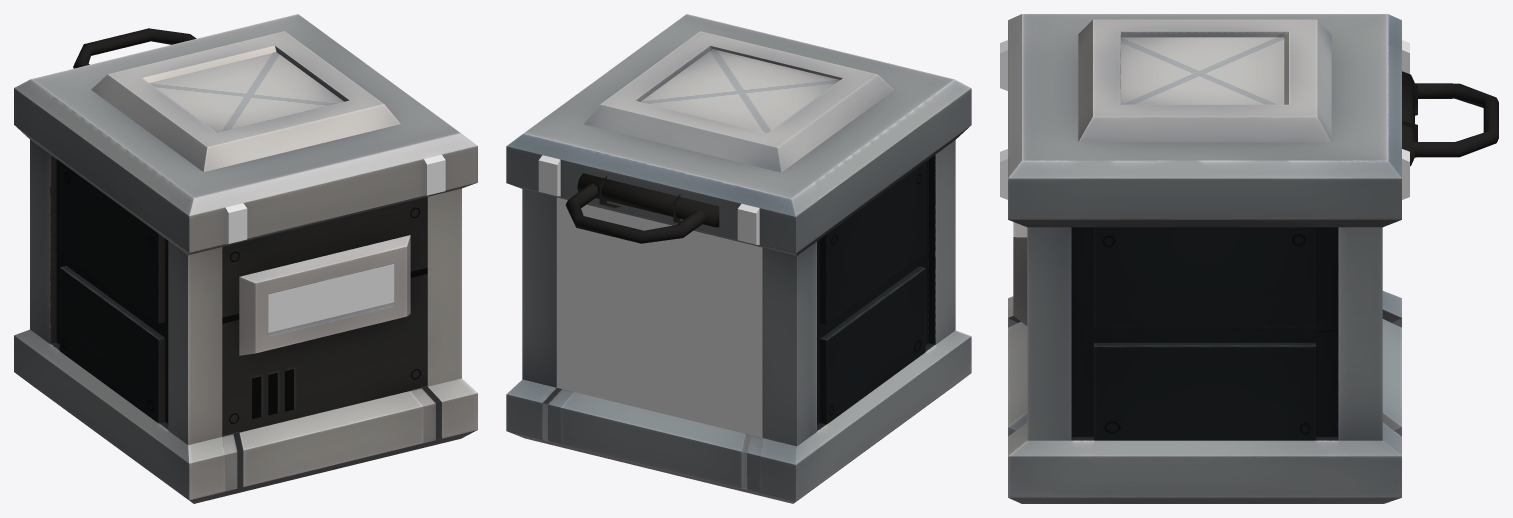
The model's file is SM_PushBox.fbx.
3 views of the same model, side by side, from view 1: azimuth 30°, elevation 25°; view 2: azimuth 150°, elevation 25°; view 3: azimuth 270°, elevation 25° (orthographic). The views are drawn at different scales.
Parts seen in each view (by area): view 1: box, handle; view 2: box, handle; view 3: box, handle.
Boxes of the visible parts, box(x1,y1,x2,y2) form: box: box(14, 14, 477, 503); handle: box(73, 28, 196, 68); box: box(506, 14, 971, 503); handle: box(565, 173, 719, 243); box: box(1000, 14, 1409, 503); handle: box(1402, 71, 1498, 166).
Size of the model in its own units: 211 by 225 by 281.
